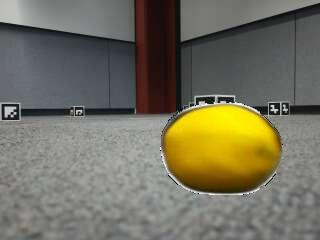lemon: (164, 106, 282, 192)
